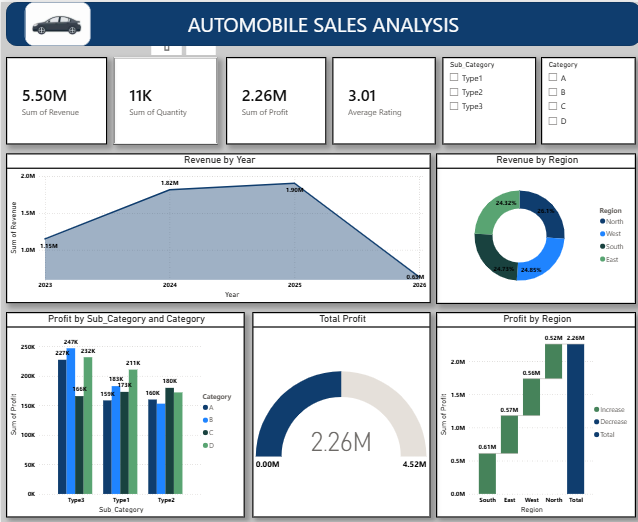

What the dashboard file says about the page in this screenshot:
{"tool":"powerbi","page":{"name":"Page 1","canvas":[1280,1044],"ordinal":0},"visuals":[{"type":"waterfallChart","title":" Profit by Region","fields":{"Y":["Sum(03_Automobile_Sales.Profit)"],"Category":["03_Automobile_Sales.Region"]},"box":[870.5,620.5,400,411.4],"z":0},{"type":"donutChart","title":" Revenue by Region","fields":{"Category":["03_Automobile_Sales.Region"],"Y":["Sum(03_Automobile_Sales.Revenue)"]},"box":[870,302.7,399.7,301.3],"z":1000},{"type":"gauge","title":"Total Profit","fields":{"Y":["Sum(03_Automobile_Sales.Profit)"]},"box":[502.6,620.2,357.1,411.5],"z":2000},{"type":"clusteredColumnChart","title":" Profit by Sub_Category and Category","fields":{"Category":["03_Automobile_Sales.Sub_Category"],"Y":["Sum(03_Automobile_Sales.Profit)"],"Series":["03_Automobile_Sales.Category"]},"box":[10.3,620.2,477.6,411.5],"z":3000},{"type":"areaChart","title":"Revenue by Year","fields":{"Category":["03_Automobile_Sales.Transaction_Date.Variation.Date Hierarchy.Year","03_Automobile_Sales.Transaction_Date.Variation.Date Hierarchy.Quarter","03_Automobile_Sales.Transaction_Date.Variation.Date Hierarchy.Month","03_Automobile_Sales.Transaction_Date.Variation.Date Hierarchy.Day"],"Y":["Sum(03_Automobile_Sales.Revenue)"]},"box":[10.3,302.7,849.4,299.8],"z":4000},{"type":"cardVisual","fields":{"Data":["Sum(03_Automobile_Sales.Profit)"]},"box":[449.4,110.2,200.7,175.2],"z":5000},{"type":"cardVisual","fields":{"Data":["Sum(03_Automobile_Sales.Quantity)"]},"box":[224.7,110.2,207.7,175.2],"z":6000},{"type":"cardVisual","fields":{"Data":["Sum(03_Automobile_Sales.Revenue)"]},"box":[9.9,110.2,202.1,175.2],"z":7000},{"type":"shape","box":[10.3,0,1269.7,88.2],"z":8000},{"type":"cardVisual","fields":{"Data":["03_Automobile_Sales.Average Rating"]},"box":[662.8,110.2,207.2,174.9],"z":9000},{"type":"slicer","fields":{"Values":["03_Automobile_Sales.Sub_Category"]},"box":[881.7,110.2,188.1,174.9],"z":10000},{"type":"slicer","fields":{"Values":["03_Automobile_Sales.Category"]},"box":[1080.1,110.2,189.6,174.9],"z":11000},{"type":"image","box":[48.5,0,132.3,88.2],"z":12000}]}

Visuals, with their boxes in screenshot pixels (x1, y1, x2, y2), scaled from the page's 1280x1044 canvas onto the 638x522 screenshot:
" Profit by Region" waterfallChart: bbox(434, 310, 633, 516)
" Revenue by Region" donutChart: bbox(434, 151, 633, 302)
"Total Profit" gauge: bbox(251, 310, 429, 516)
" Profit by Sub_Category and Category" clusteredColumnChart: bbox(5, 310, 243, 516)
"Revenue by Year" areaChart: bbox(5, 151, 429, 301)
cardVisual - Sum(03_Automobile_Sales.Profit): bbox(224, 55, 324, 143)
cardVisual - Sum(03_Automobile_Sales.Quantity): bbox(112, 55, 216, 143)
cardVisual - Sum(03_Automobile_Sales.Revenue): bbox(5, 55, 106, 143)
shape: bbox(5, 0, 637, 44)
cardVisual - 03_Automobile_Sales.Average Rating: bbox(330, 55, 434, 143)
slicer - 03_Automobile_Sales.Sub_Category: bbox(439, 55, 533, 143)
slicer - 03_Automobile_Sales.Category: bbox(538, 55, 633, 143)
image: bbox(24, 0, 90, 44)
